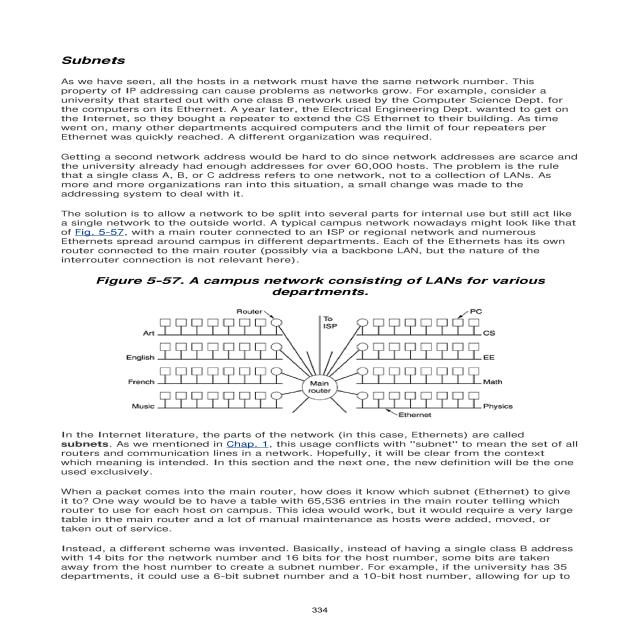diagram: (66, 269, 560, 422)
